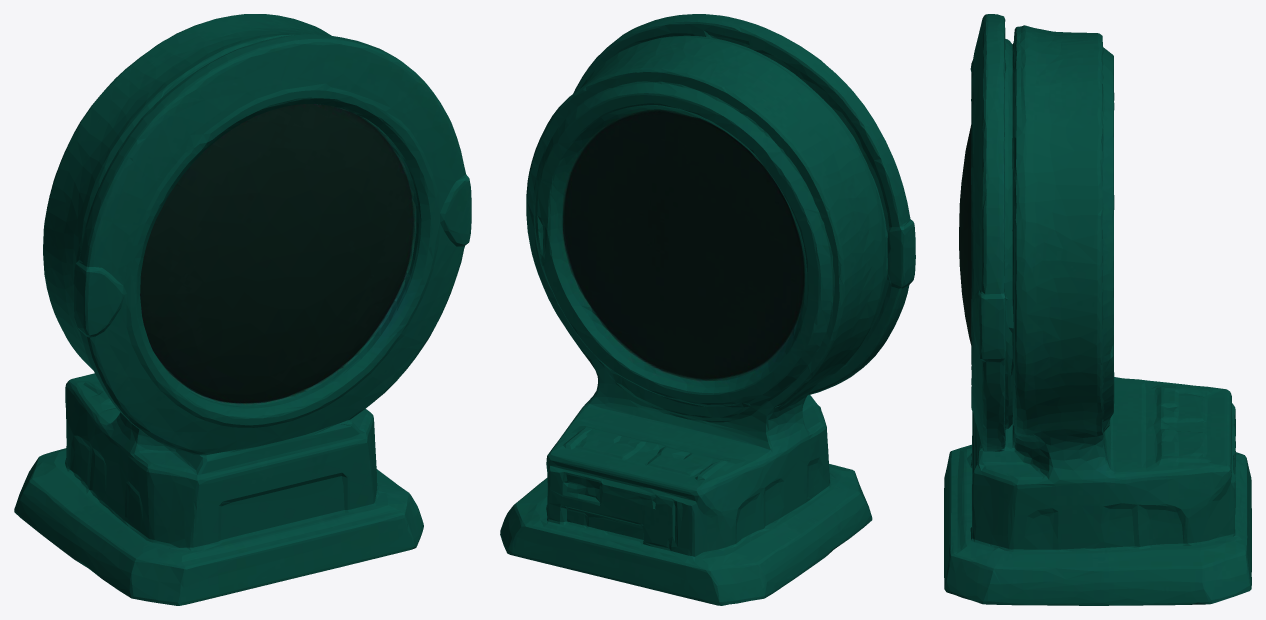
The model's file is New_portal.fbx.
3 views of the same model, side by side, from view 1: azimuth 30°, elevation 25°; view 2: azimuth 150°, elevation 25°; view 3: azimuth 270°, elevation 25° (orthographic). The views are drawn at different scales.
Visible parts, largest first — view 1: textured_mesh.obj; view 2: textured_mesh.obj; view 3: textured_mesh.obj.
Part boxes in pixels (left/top/right/bottom): textured_mesh.obj: left=14, top=14, right=471, bottom=605; textured_mesh.obj: left=500, top=14, right=915, bottom=605; textured_mesh.obj: left=944, top=14, right=1251, bottom=605.
Size of the model in its own units: 156 by 199 by 110.
Materials: 1 (1 with a texture image).
